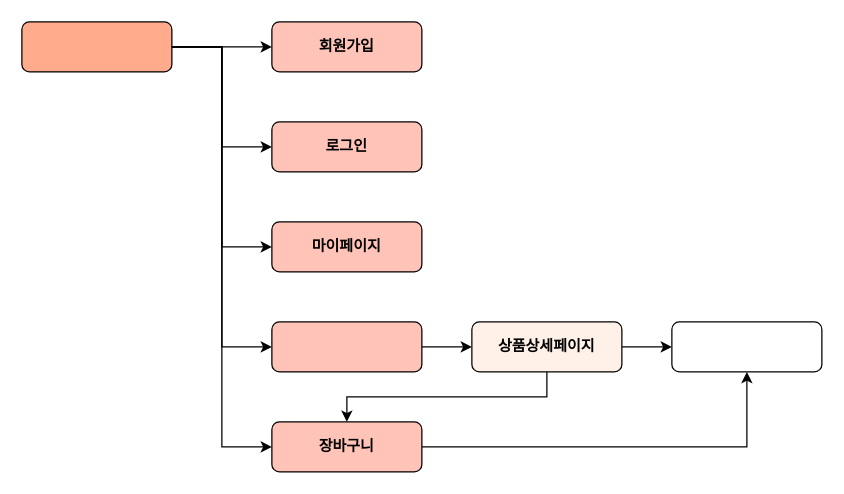
Some shapes in this 844 by 494 pixel diagram are drawn without their labels. The centre of each missing label's shape, as x and y in pixels:
결제페이지: [746,346]
메인페이지: [96,46]
상품목록: [346,346]
